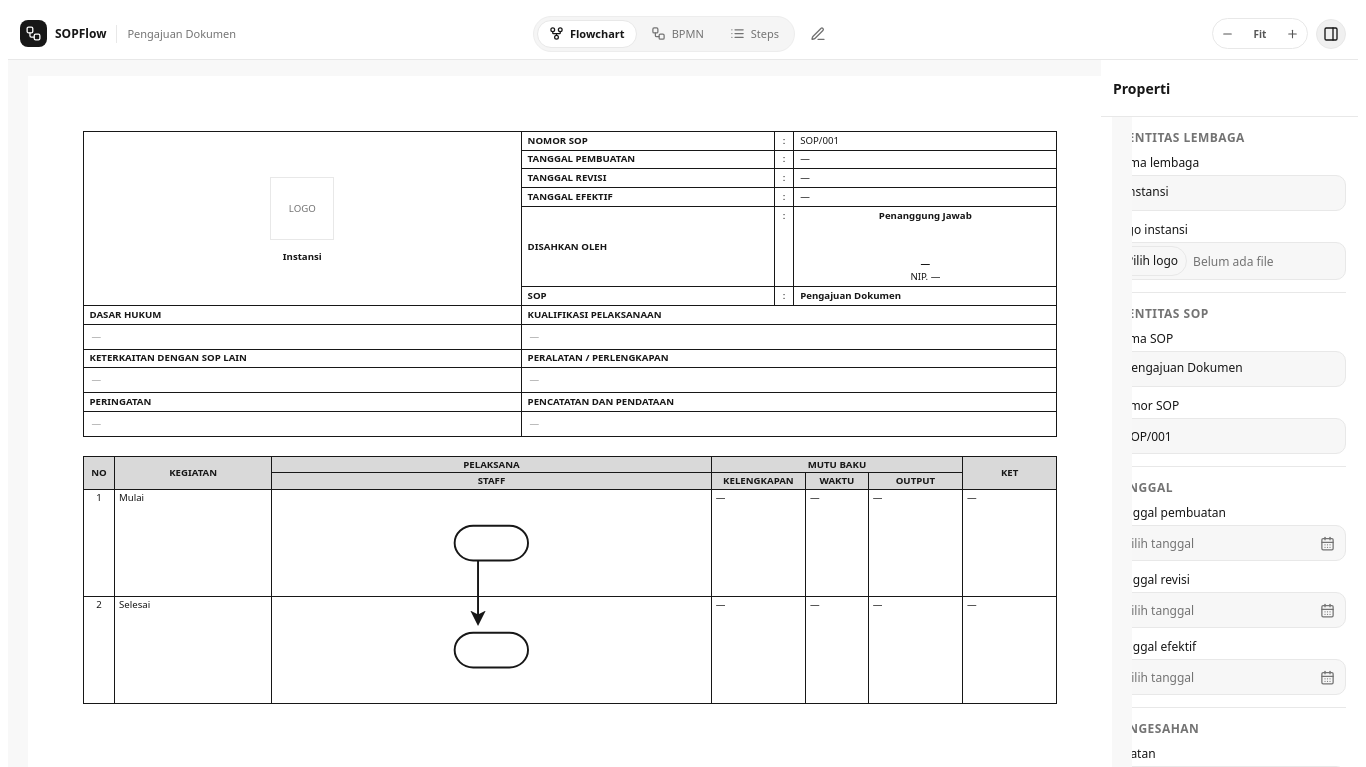
Test case: SopUnifiedWorkspace › switches between flowchart, BPMN and Steps without losing the editor
Click the button "BPMN": (677, 34) [639,20,716,48]
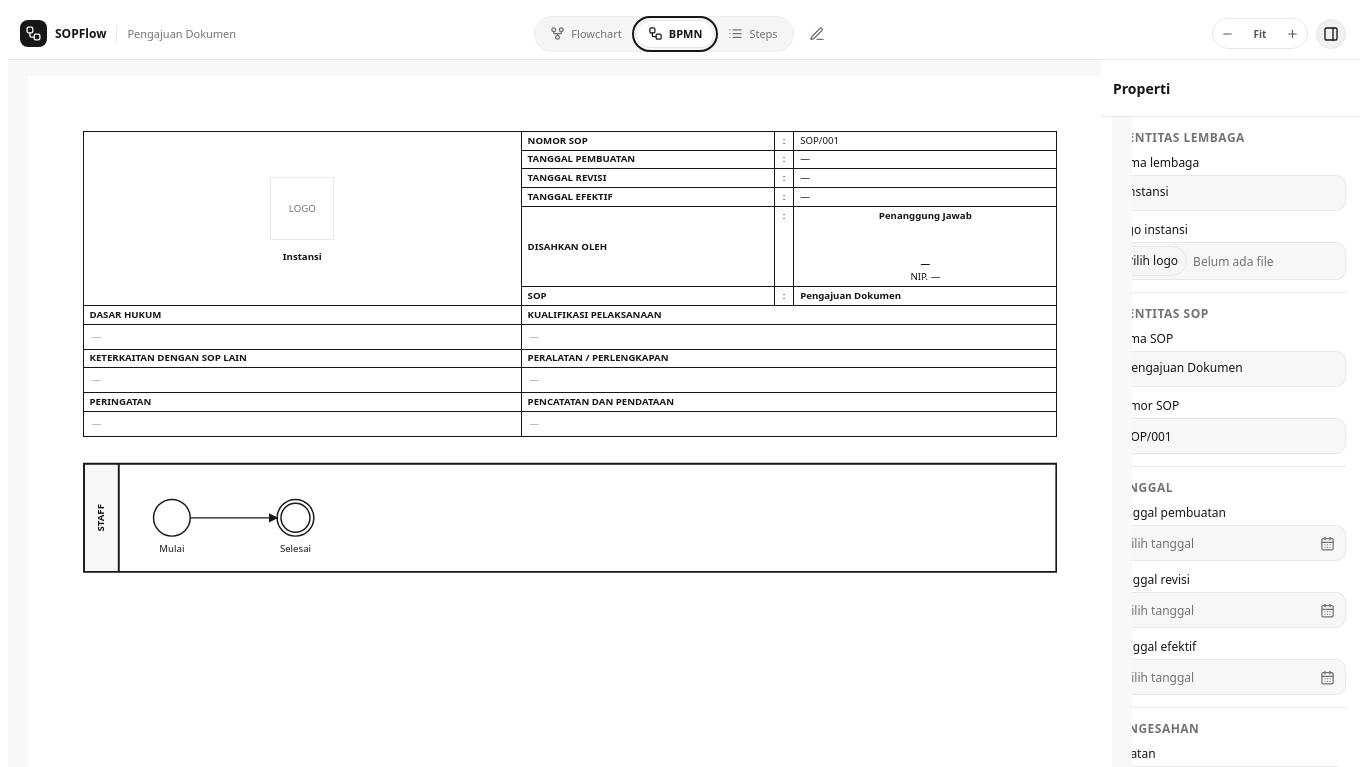
Expected: the element showing "Staff Mulai Selesai" is shown, [83,456,1057,579]
Click the button "Steps": (753, 34) [716,20,790,48]
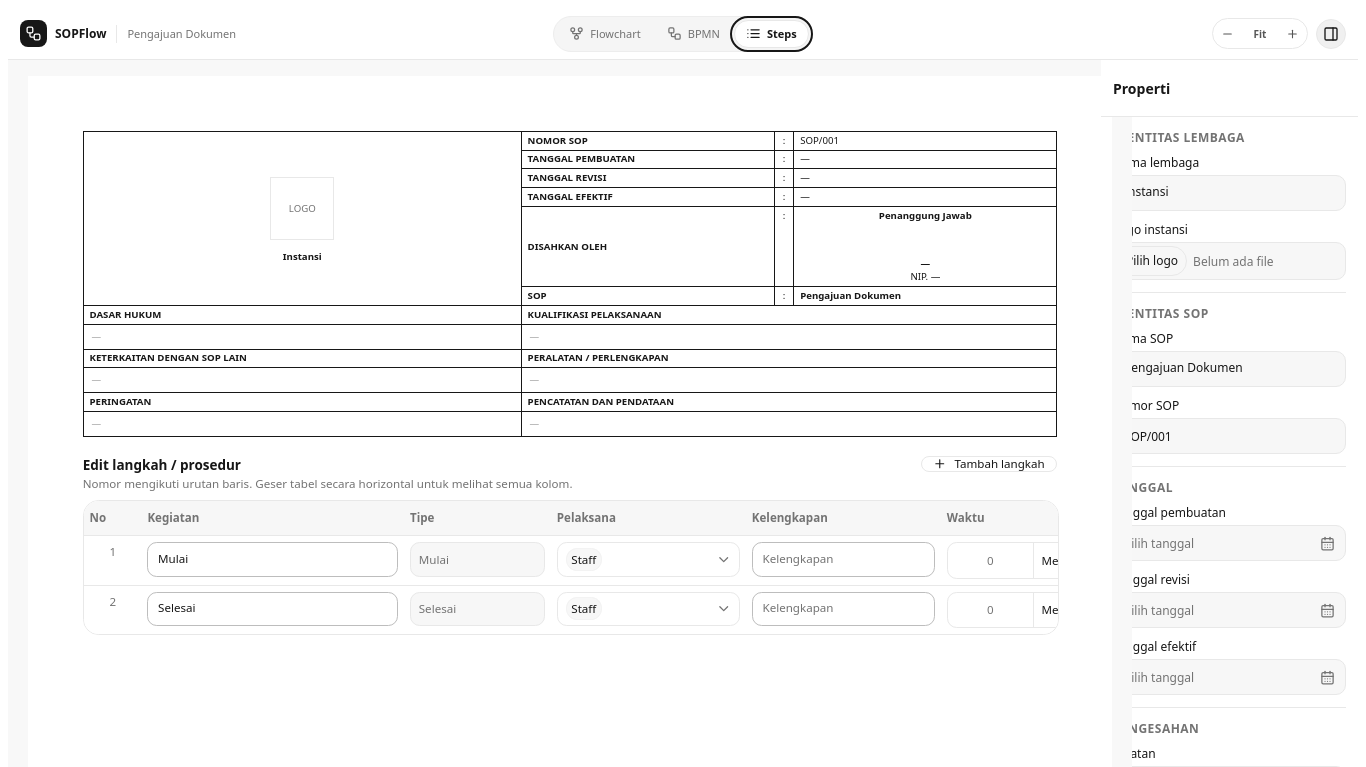
Expected: the element named "Editor langkah SOP; gulir horizontal untuk melihat kolom lai" is shown, [83,500,1059,635]
Click the button "Flowchart": (605, 34) [557,20,653,48]
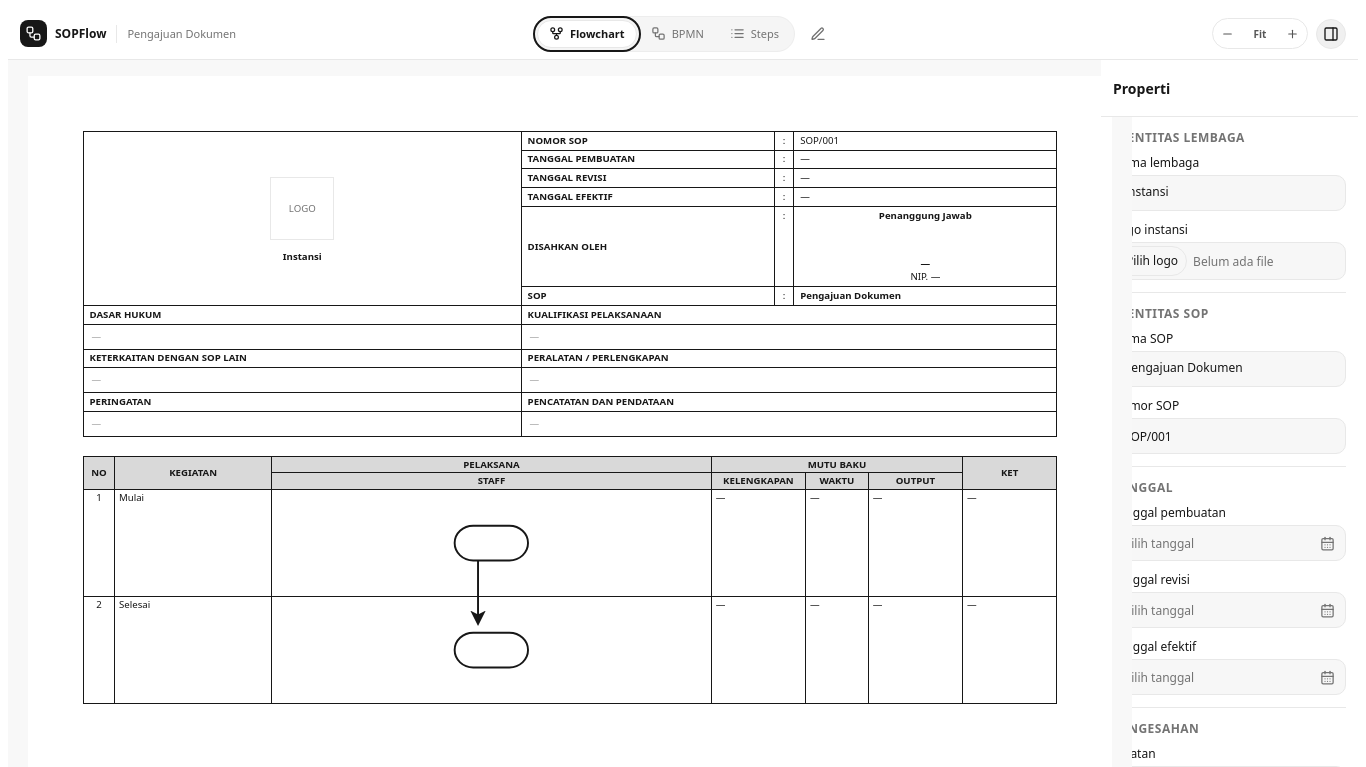
Expected: the element named "Prosedur SOP" is shown, [83,456,1057,704]
